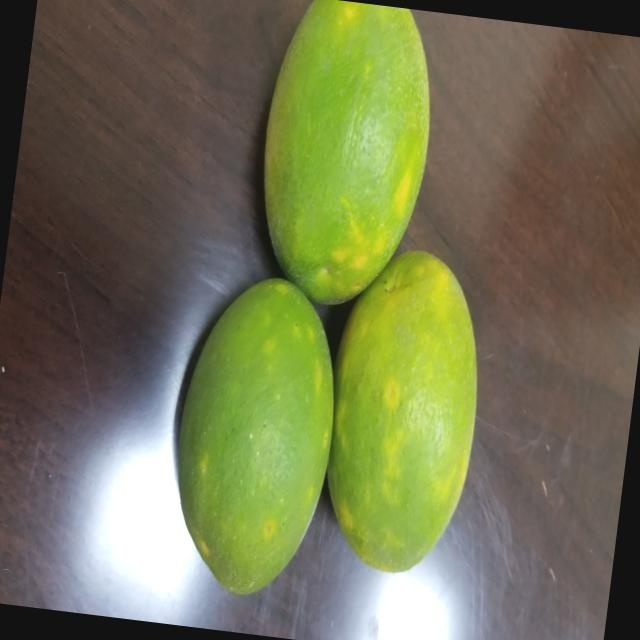agrume: (147, 248, 357, 615), (214, 0, 445, 314), (310, 241, 498, 583)
